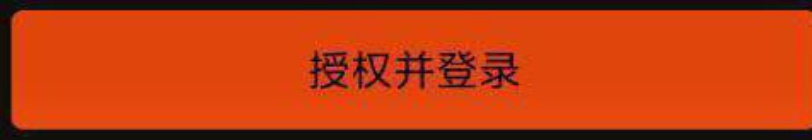Button: (1, 1, 811, 139)
